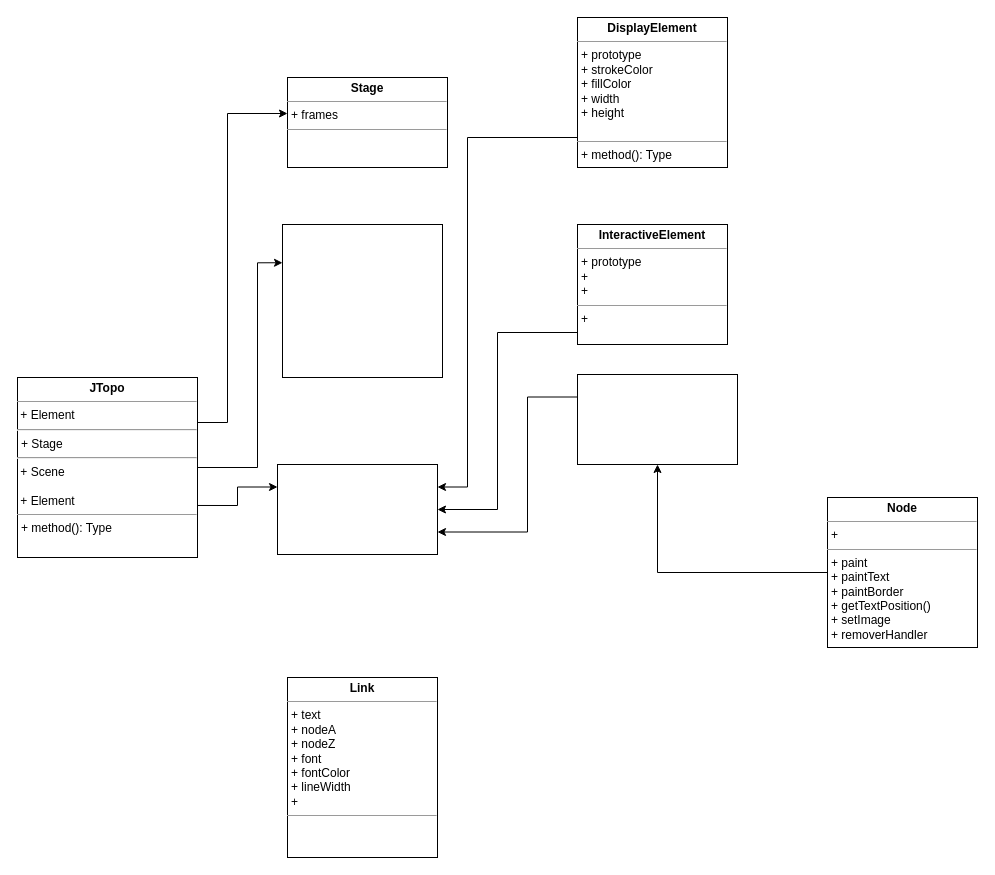
The diagram is 995 pixels wide and 875 high, and some of its shapes have lost their labels. Here are the shapes that lost their labels. From the top down, the box of each, then its label:
(282, 224, 442, 378): Scene + prototype + backgroundColor + alpha + scaleX + scaleY + mode
(576, 374, 738, 464): EditableElement + selectedPoint + paintCtrl
(276, 464, 438, 554): Element + field: Type + method(): Type
